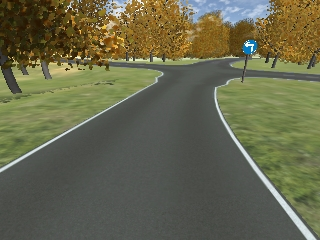left: (242, 40, 259, 55)
